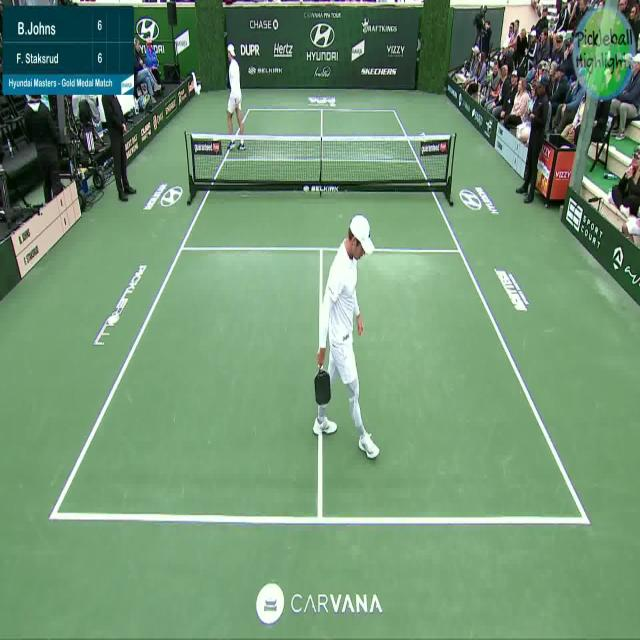Court: (50, 108, 590, 526)
